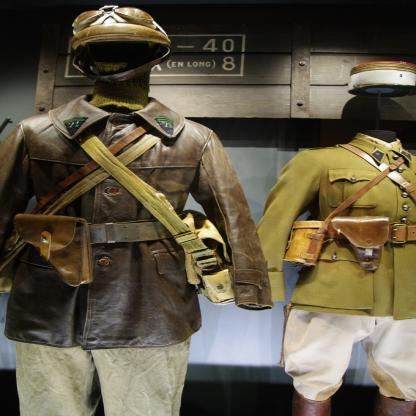Helmet: (58, 3, 176, 84)
